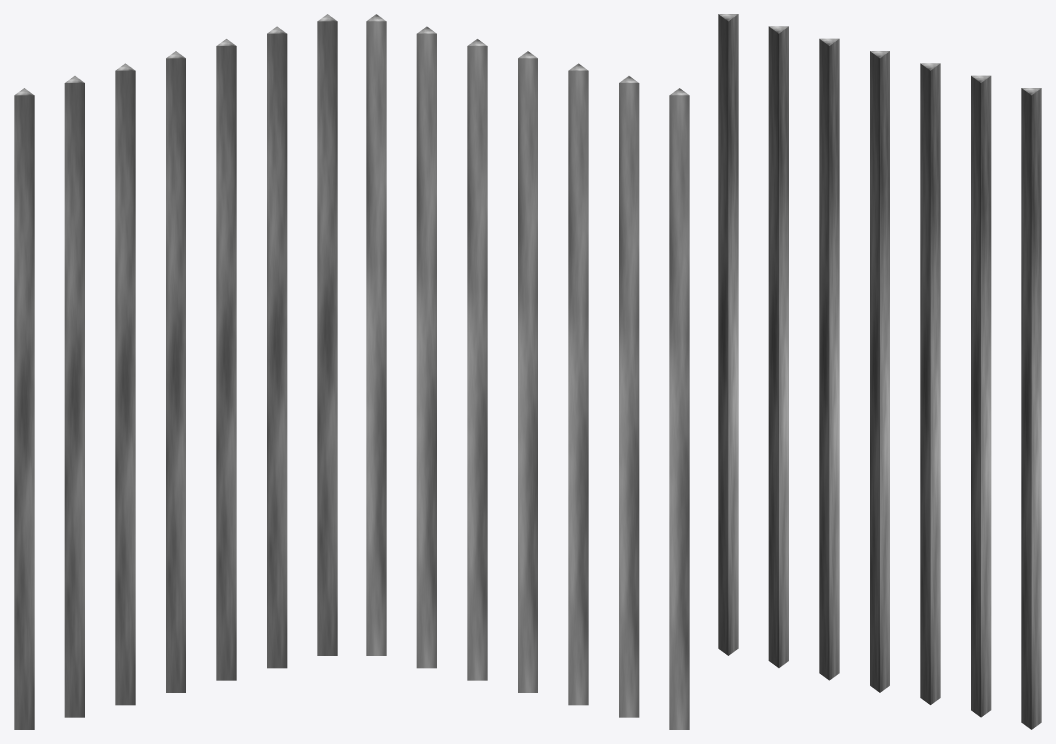
The model's file is 01-closedDoor.fbx.
3 views of the same model, side by side, from view 1: azimuth 30°, elevation 25°; view 2: azimuth 150°, elevation 25°; view 3: azimuth 330°, elevation 25° (orthographic).
Visible parts, largest first — view 1: Cylinder_7; view 2: Cylinder_7; view 3: Cylinder_7.
Part boxes in pixels (<box>): Cylinder_7: <box>14,14,337,729</box>; Cylinder_7: <box>366,14,689,729</box>; Cylinder_7: <box>718,14,1041,729</box>.
Size of the model in its own units: 3.15 by 6 by 0.1732.
Materials: 1 (1 with a texture image).
